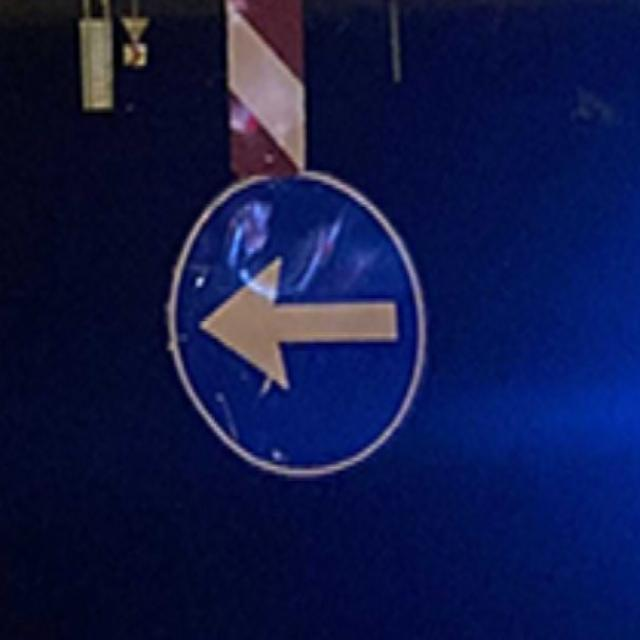Turn Left: (164, 167, 432, 484)
